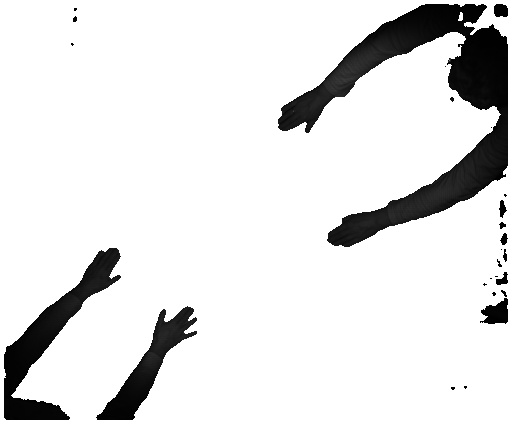hand: (272, 87, 329, 135), (80, 248, 127, 296), (327, 211, 387, 247), (155, 304, 199, 353)
